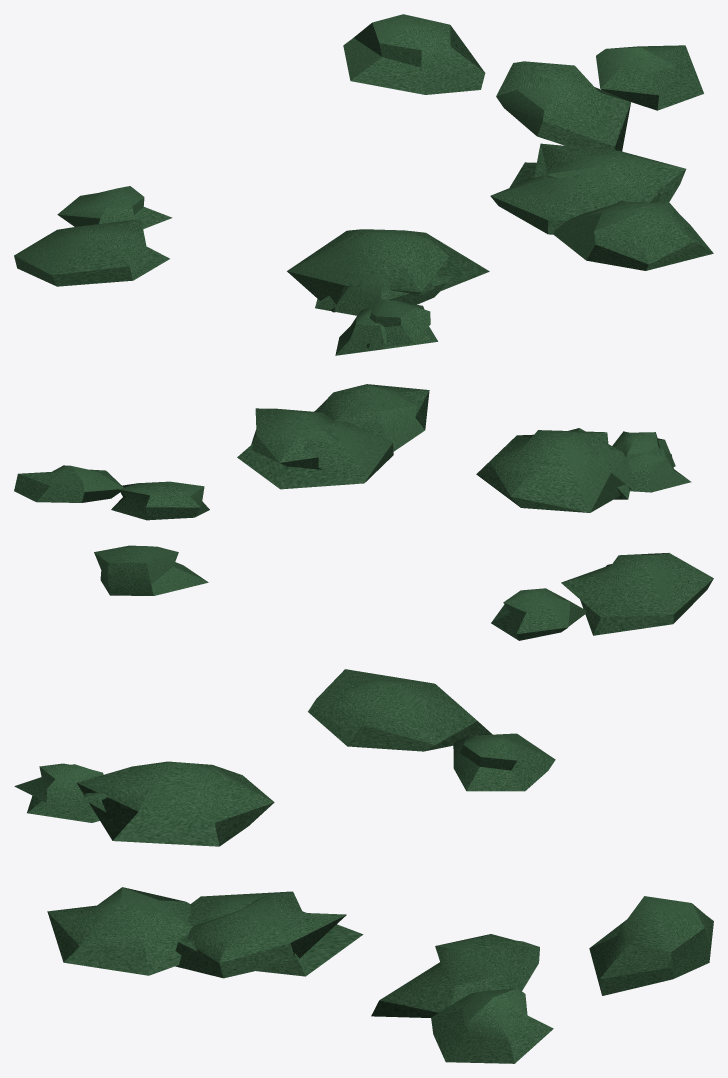
Rendered from brush_mat_2.glb.
3 renders of one model, top to bottom at view 1: azimuth 30°, elevation 25°; view 2: azimuth 150°, elevation 25°; view 3: azimuth 270°, elevation 25°, orthographic. The views are drawn at different scales.
Parts seen in each view (by area): view 1: brush_mat_2; view 2: brush_mat_2; view 3: brush_mat_2.
Boxes of the visible parts, x1=… form: brush_mat_2: x1=14, y1=14, x2=713, y2=355; brush_mat_2: x1=14, y1=384, x2=713, y2=640; brush_mat_2: x1=14, y1=669, x2=713, y2=1063.
Bounding box in the file's own units: 4.26 × 0.4182 × 3.36.
1 material, 1 textured.
